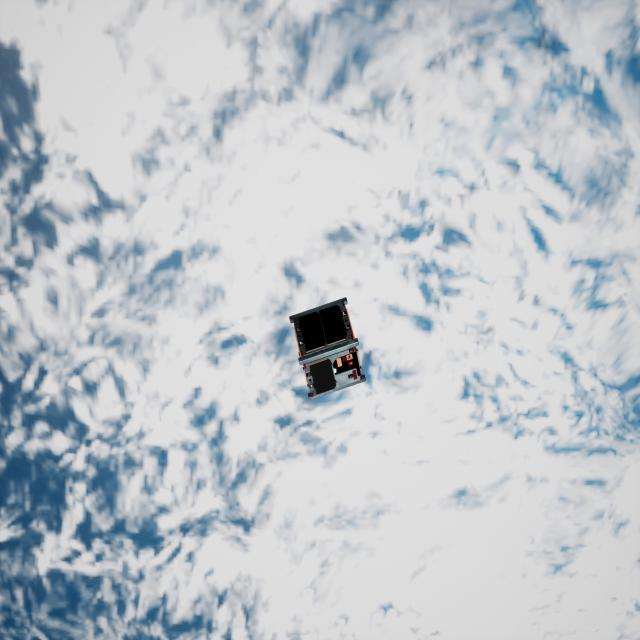satellite: (287, 298, 360, 396)
